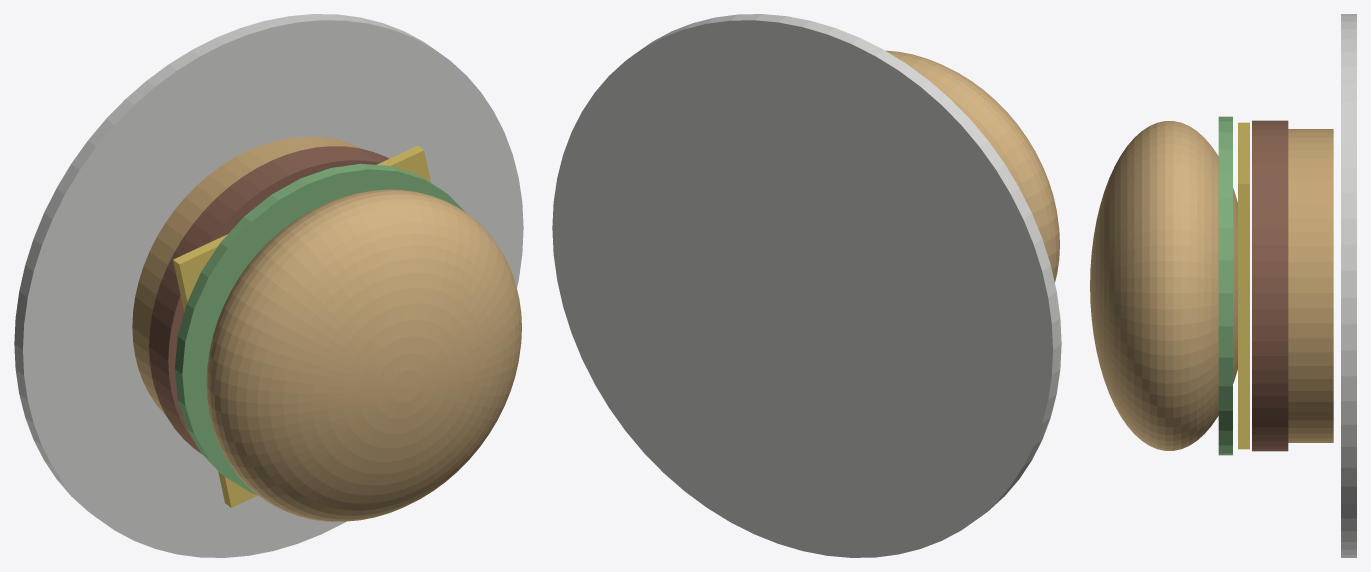
File: burger.glb
3 views of the same model, side by side, from view 1: azimuth 30°, elevation 25°; view 2: azimuth 150°, elevation 25°; view 3: azimuth 270°, elevation 25° (orthographic). The views are drawn at different scales.
Visible parts, largest first — view 1: plate, top_bun, lettuce, patty, bottom_bun, cheese; view 2: plate, top_bun; view 3: top_bun, bottom_bun, patty, plate, lettuce, cheese.
Part boxes in pixels (x1,y1,x2,y2): plate: (14, 14, 523, 557); top_bun: (206, 189, 521, 521); lettuce: (175, 163, 465, 494); patty: (149, 146, 389, 453); bottom_bun: (132, 136, 361, 415); cheese: (173, 145, 431, 507); plate: (552, 14, 1061, 557); top_bun: (885, 50, 1059, 282); top_bun: (1090, 121, 1237, 450); bottom_bun: (1288, 129, 1333, 442); patty: (1252, 120, 1288, 451); plate: (1341, 14, 1356, 557); lettuce: (1218, 116, 1232, 455); cheese: (1238, 122, 1249, 449).
Size of the model in its own units: 2.7 by 2.7 by 1.32.
